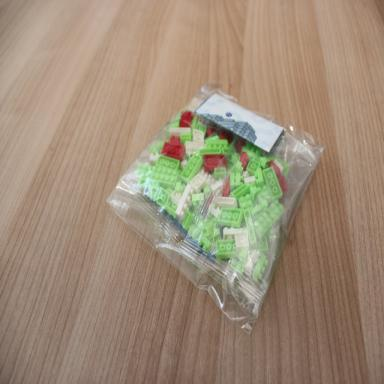plasticbag: (104, 82, 326, 332)
